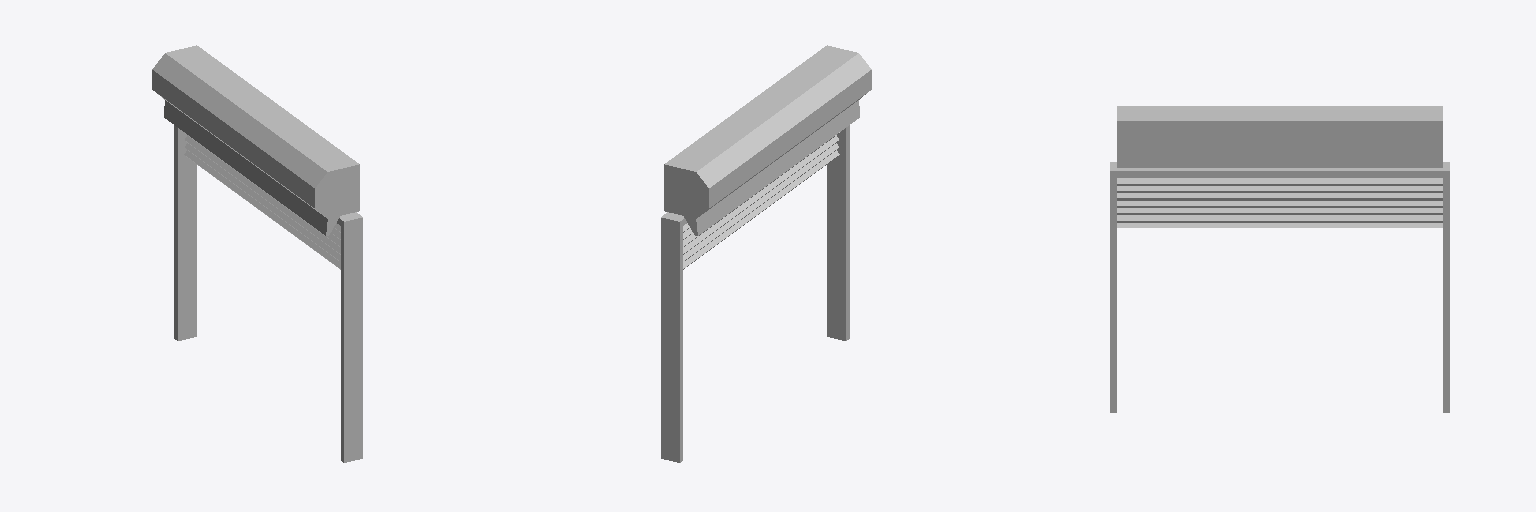
Rendered from Props_OpenGarage_Geo.obj.
3 renders of one model, left to right at view 1: azimuth 30°, elevation 25°; view 2: azimuth 150°, elevation 25°; view 3: azimuth 270°, elevation 25°, orthographic.
Visible parts, largest first — view 1: pCube162 polySurface14 pCube161, polySurface14 pCube161, polySurface14 pCube161 polySurface15; view 2: pCube162 polySurface14 pCube161, polySurface14 pCube161, polySurface14 pCube161 polySurface15; view 3: pCube162 polySurface14 pCube161, polySurface14 pCube161 polySurface15, polySurface14 pCube161.
Part boxes in pixels (left/top/right/bottom): pCube162 polySurface14 pCube161: left=152, top=45, right=359, bottom=235; polySurface14 pCube161: left=174, top=125, right=362, bottom=462; polySurface14 pCube161 polySurface15: left=184, top=132, right=340, bottom=269; pCube162 polySurface14 pCube161: left=664, top=45, right=871, bottom=235; polySurface14 pCube161: left=661, top=125, right=849, bottom=462; polySurface14 pCube161 polySurface15: left=683, top=132, right=839, bottom=269; pCube162 polySurface14 pCube161: left=1117, top=106, right=1442, bottom=167; polySurface14 pCube161 polySurface15: left=1117, top=178, right=1442, bottom=227; polySurface14 pCube161: left=1110, top=162, right=1449, bottom=412.
Bounding box in the file's own units: 0.7 × 4.35 × 4.6.